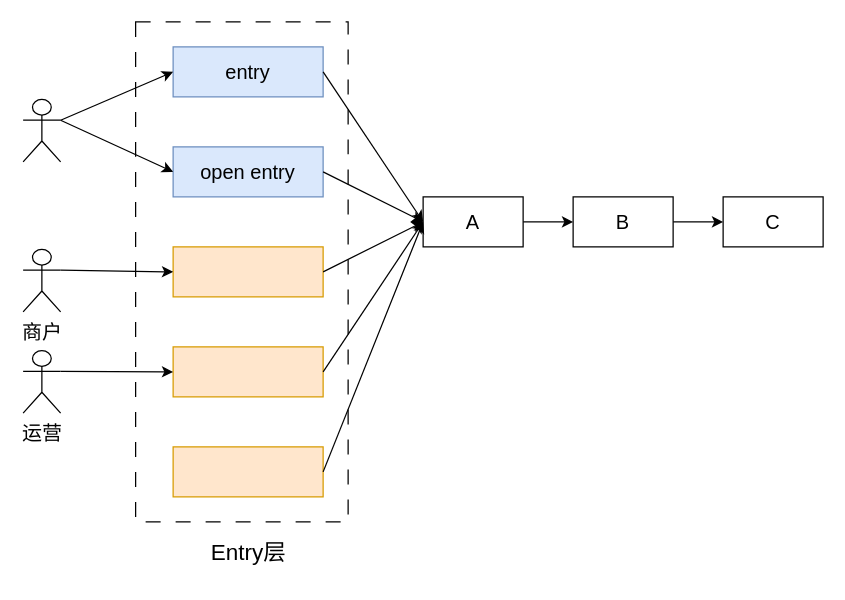
This 845x600 diagram has some shape labels left out. The shapes that lost their labels are listed below. From the top down, each one's centre as x and y in pixels, then its label:
the point at 41,130: 用户
the point at 247,271: zzyywebadmin
the point at 247,371: supply_gateway
the point at 247,471: 其他
